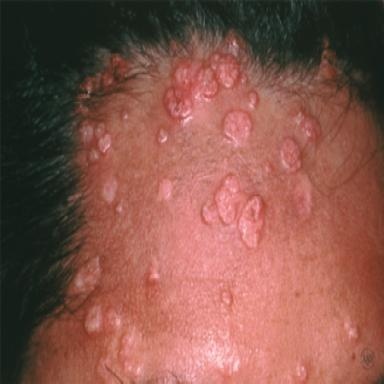Molluscum-Contagiosum: (164, 31, 245, 119), (85, 298, 144, 383), (201, 176, 264, 248), (76, 54, 130, 116), (279, 138, 312, 218), (65, 256, 101, 311), (79, 122, 111, 162), (223, 109, 252, 146), (294, 111, 322, 141), (100, 175, 118, 203), (342, 317, 359, 343), (157, 178, 173, 201), (220, 285, 234, 310), (295, 363, 308, 382), (146, 268, 161, 284), (247, 90, 259, 109), (157, 127, 168, 144), (120, 106, 129, 120), (116, 205, 122, 213)
